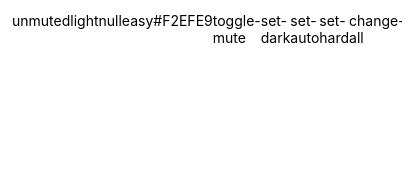
Scenario: SettingsProvider › still applies a change in this session when saving it fails
Expected: the text "easy" is shown, 122,12 -> 153,29
Click the text with test id "set-hard" at (334, 29), box 319,12 -> 349,46
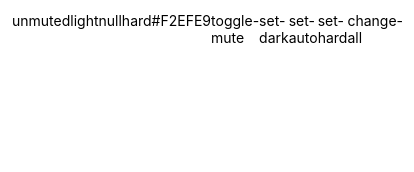
Now the text with test id "difficulty" reads "hard", box 122,12 -> 152,29
